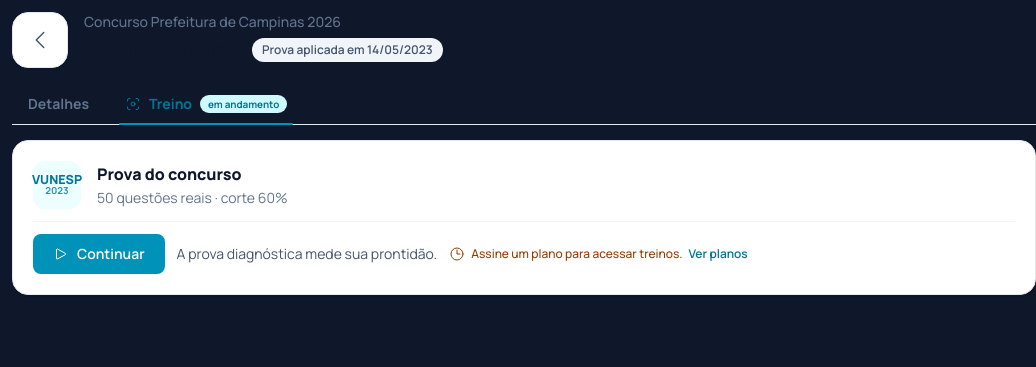
Test: página do cargo — aba Treino (prova passada) › treino em andamento: aba Treino ganha o selo "em andamento" e o próximo passo retoma
The image size is (1036, 367).
Expected: the text "em andamento" is shown, [200, 95, 287, 113]
Click the button with aria-label "Continuar: " at point(99, 254), box [33, 234, 165, 274]
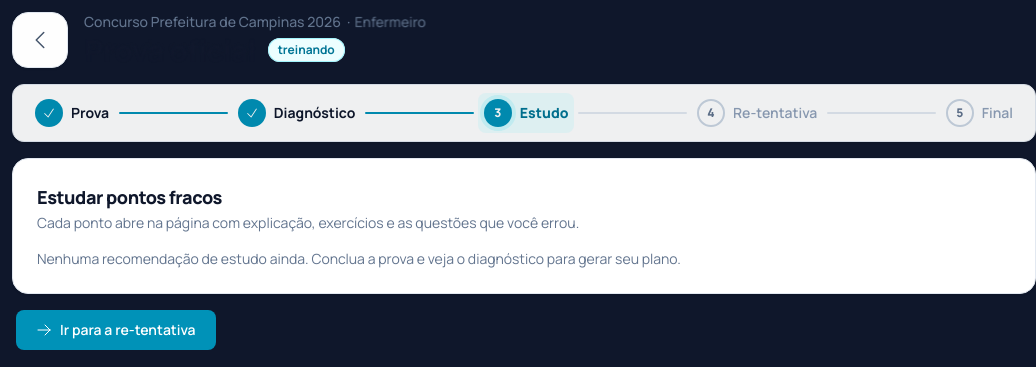
Result: the heading "Estudar pontos fracos" is shown at [37, 185, 222, 209]
Result: the button "Ir para a re-tentativa" is shown at [16, 310, 216, 350]
